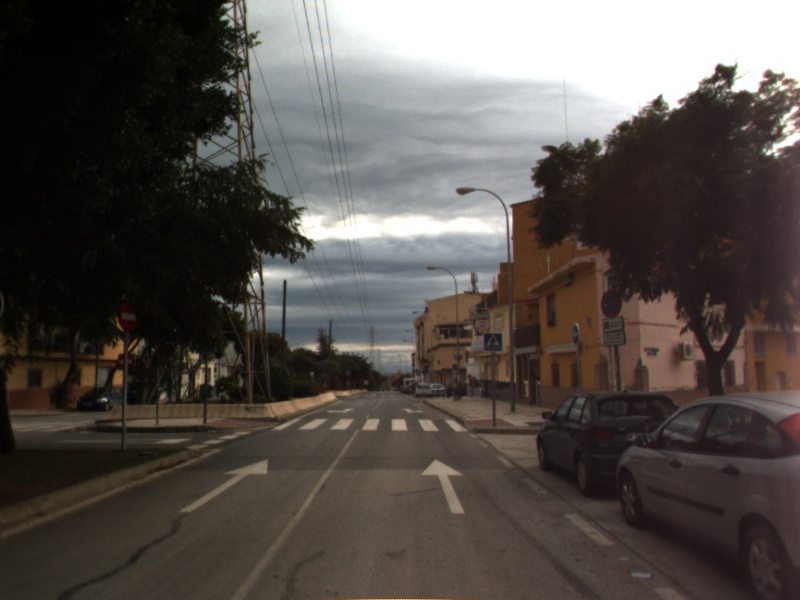STRAIGHT: (177, 457, 270, 514), (419, 456, 469, 515)
STRAIGHT_LEFT: (324, 405, 357, 416)
STRAIGHT_RIGHT: (399, 405, 426, 416)
